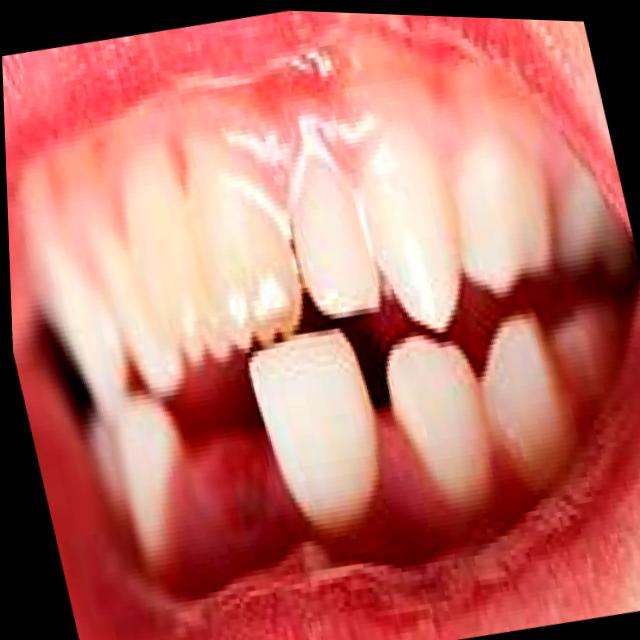hypodontia: (163, 393, 312, 581), (338, 330, 425, 500)
